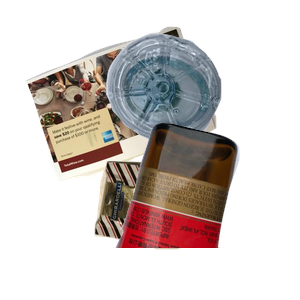glass: (113, 120, 300, 300)
paper: (23, 24, 232, 199)
plastic: (104, 31, 300, 168)
trash: (92, 158, 277, 300)
